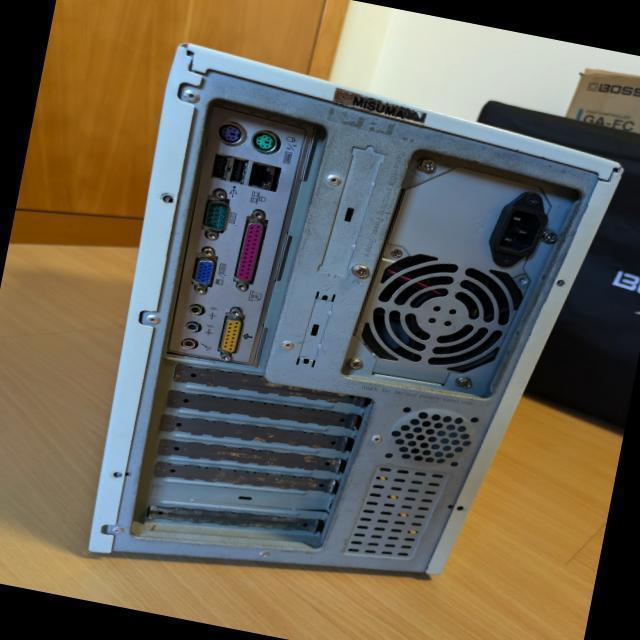PSU: (343, 144, 570, 406)
